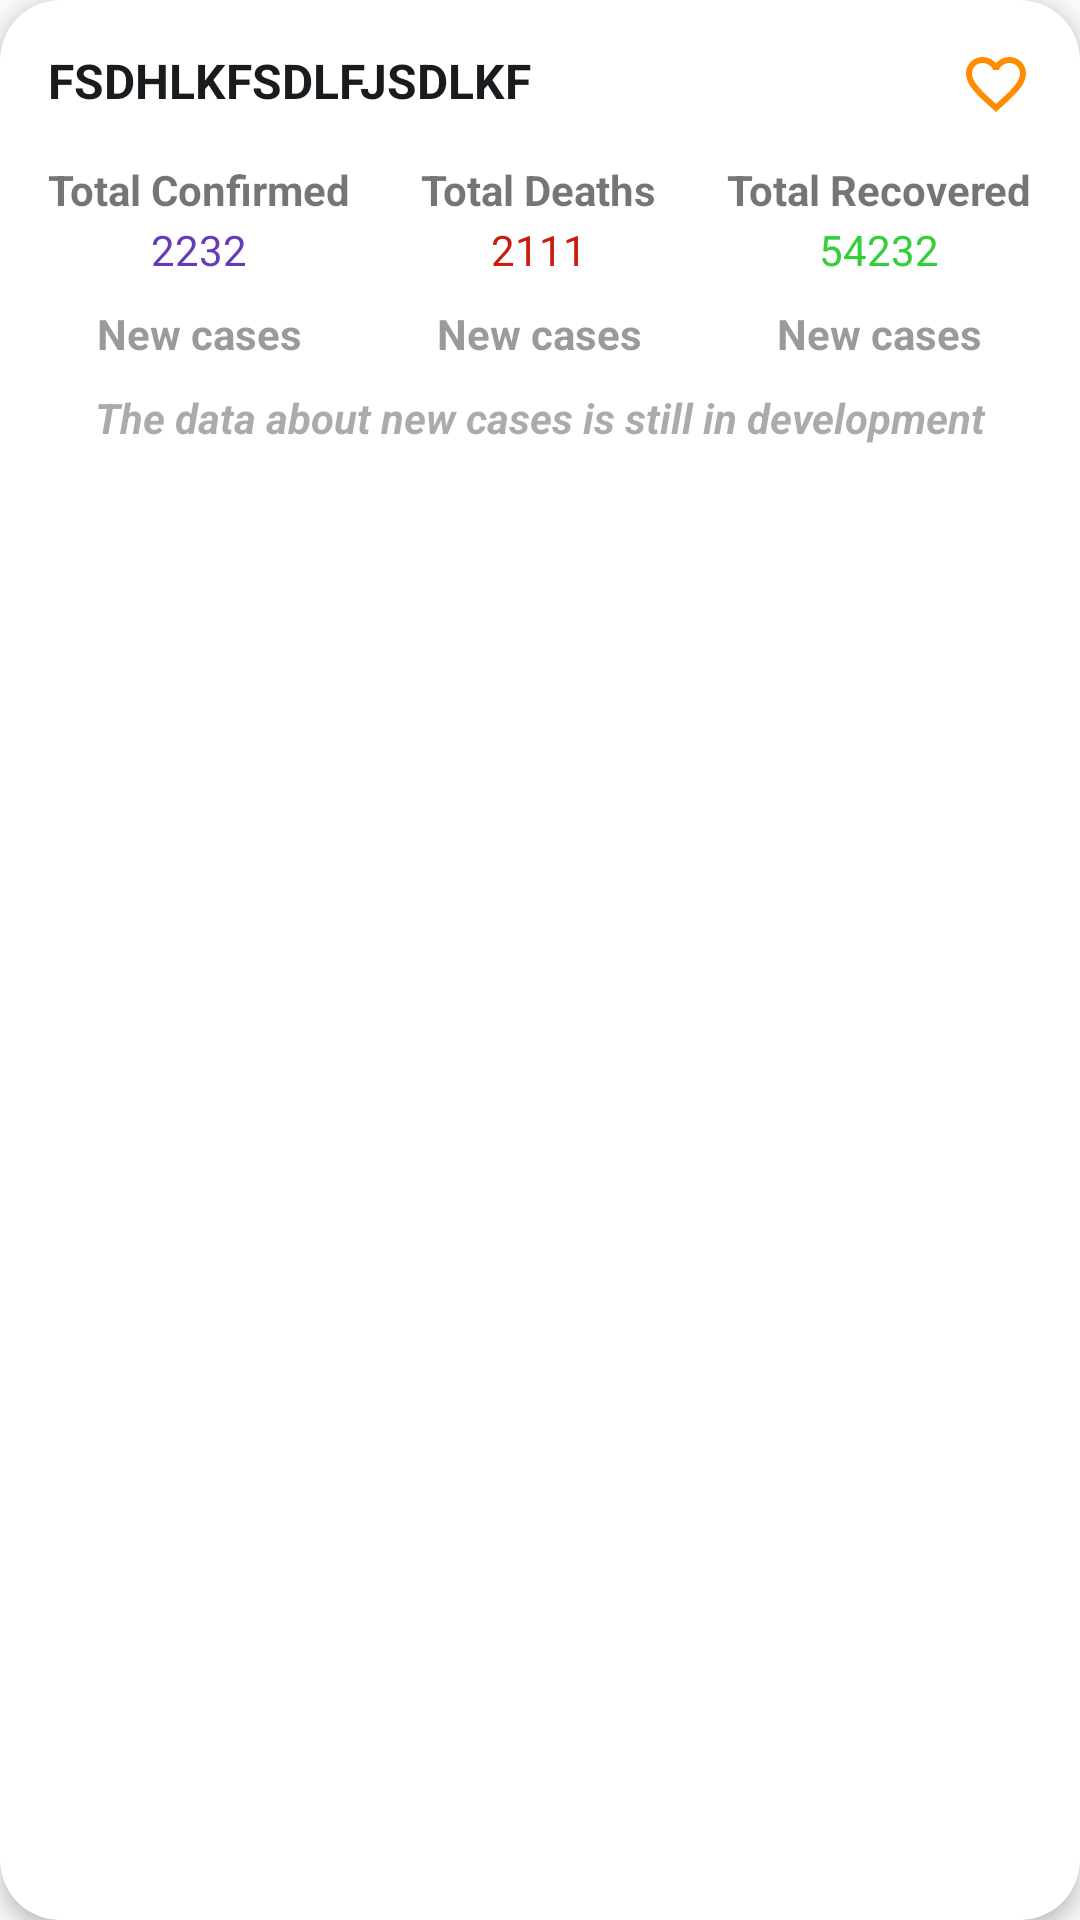

Icon click points for this 1080 x 1920 phone screenshot, format (x,y):
favorite: (996,84)
